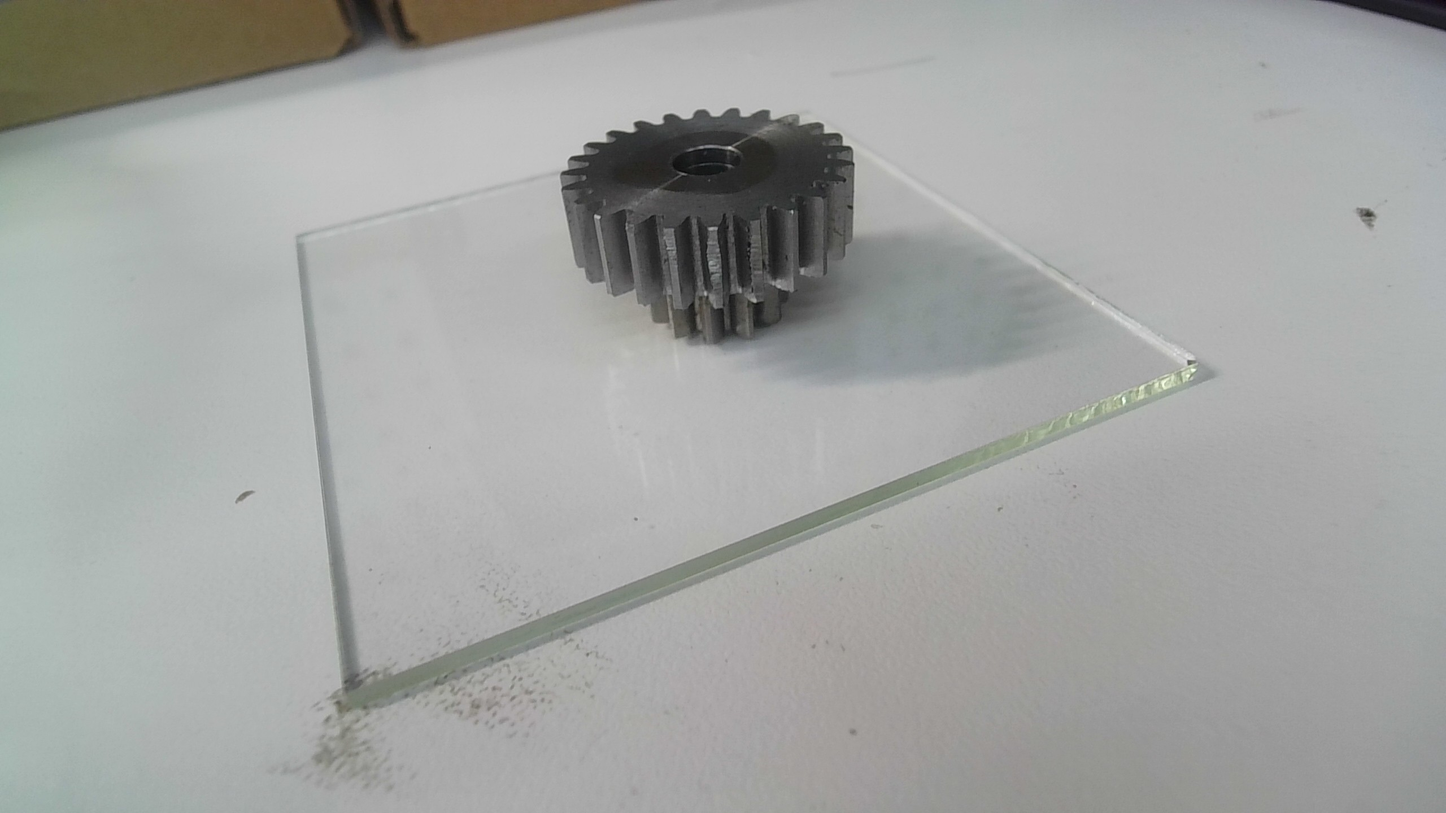gear: (555, 108, 864, 351)
